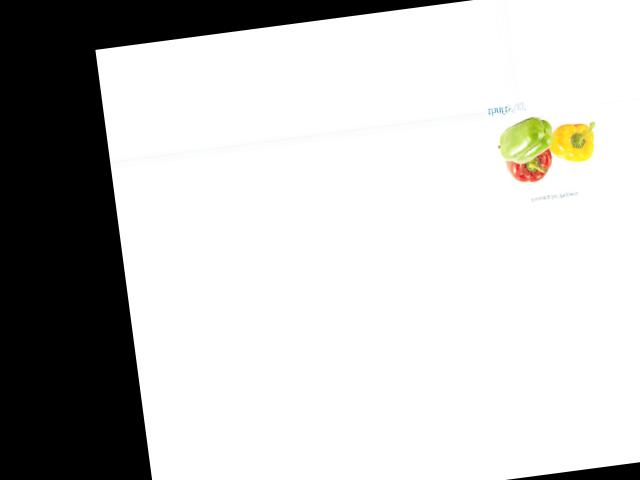bell_pepper: (493, 109, 560, 165)
